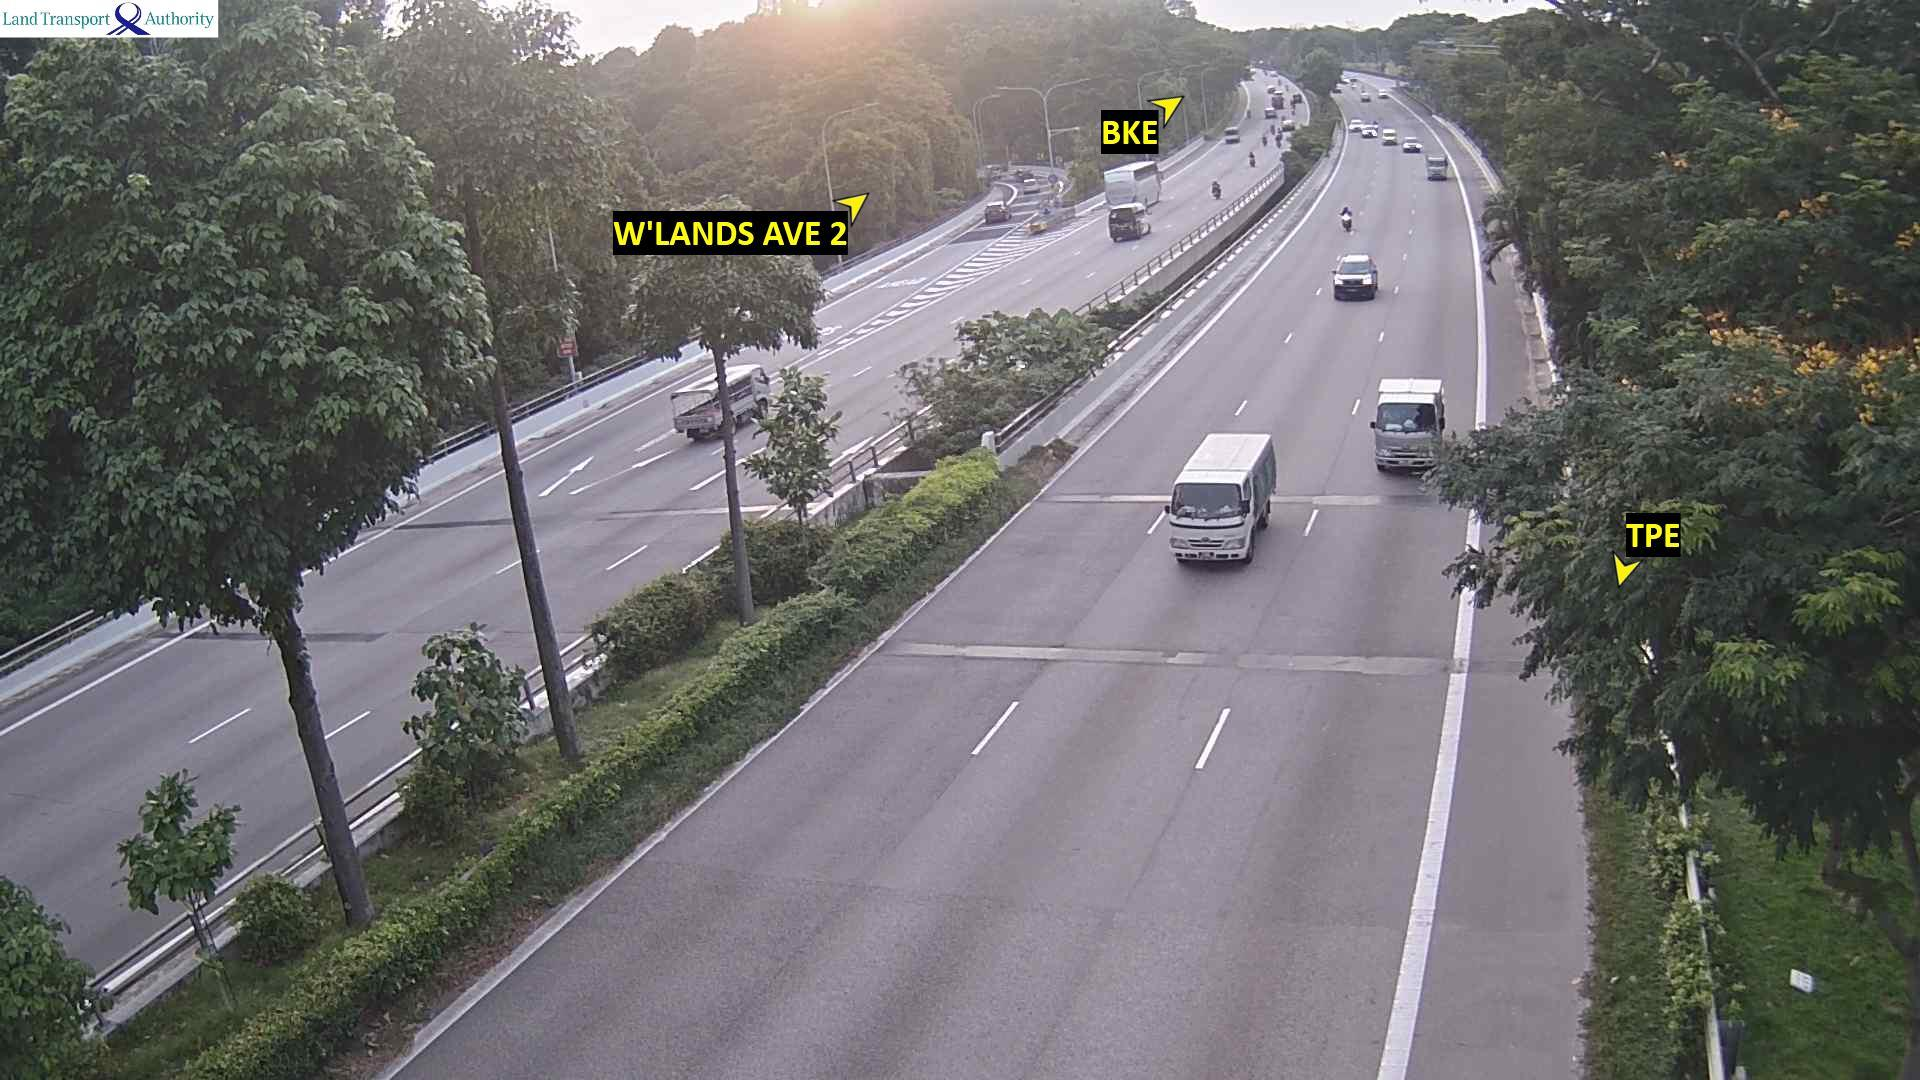incoming: (1169, 476, 1255, 562), (1375, 400, 1440, 471), (1330, 258, 1378, 301), (1426, 156, 1446, 180), (1403, 136, 1423, 158), (1342, 214, 1353, 232)
